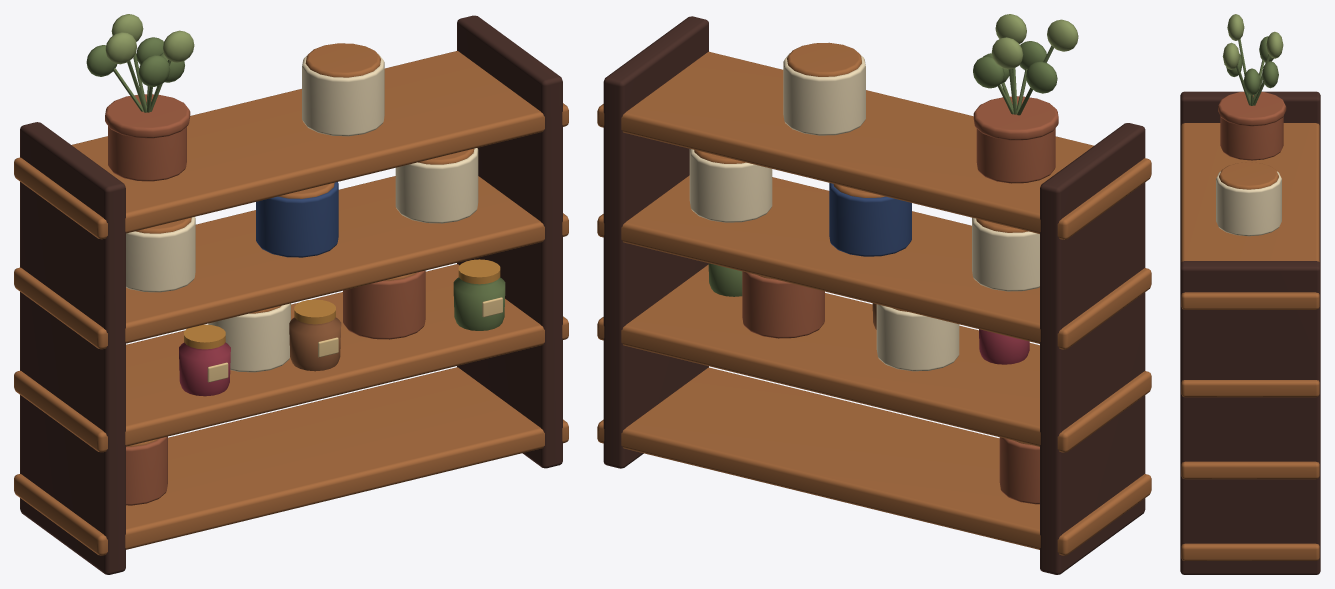
Rendered from kitchen-shelf.glb.
The picture shows the model from 3 angles, left to right: view 1: azimuth 30°, elevation 25°; view 2: azimuth 150°, elevation 25°; view 3: azimuth 270°, elevation 25°; orthographic projection. The views are drawn at different scales.
Parts seen in each view (by area): view 1: kitchen_shelf_pivot_Mesh; view 2: kitchen_shelf_pivot_Mesh; view 3: kitchen_shelf_pivot_Mesh.
Boxes of the visible parts, x1,y1,x2,y2 form: kitchen_shelf_pivot_Mesh: (14, 14, 568, 574); kitchen_shelf_pivot_Mesh: (597, 14, 1151, 574); kitchen_shelf_pivot_Mesh: (1180, 14, 1320, 574).
Size of the model in its own units: 2.87 by 2.95 by 0.93.
